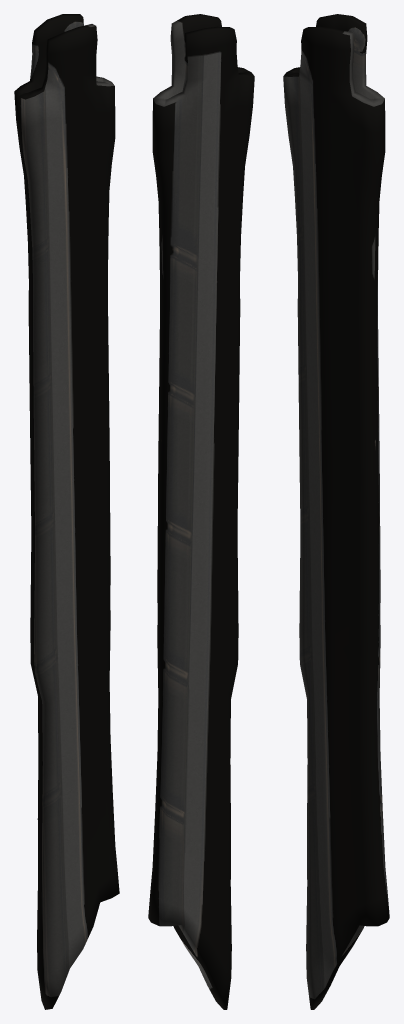
File: SM_sword_sheath.fbx
3 views of the same model, side by side, from view 1: azimuth 30°, elevation 25°; view 2: azimuth 210°, elevation 25°; view 3: azimuth 330°, elevation 25° (orthographic).
Parts seen in each view (by area): view 1: SM_mandau_sheath; view 2: SM_mandau_sheath; view 3: SM_mandau_sheath.
Boxes of the visible parts, <box> form: SM_mandau_sheath: <box>14,14,119,1009</box>; SM_mandau_sheath: <box>148,14,254,1009</box>; SM_mandau_sheath: <box>283,14,389,1009</box>.
Size of the model in its own units: 9.05 by 85.47 by 3.33.
